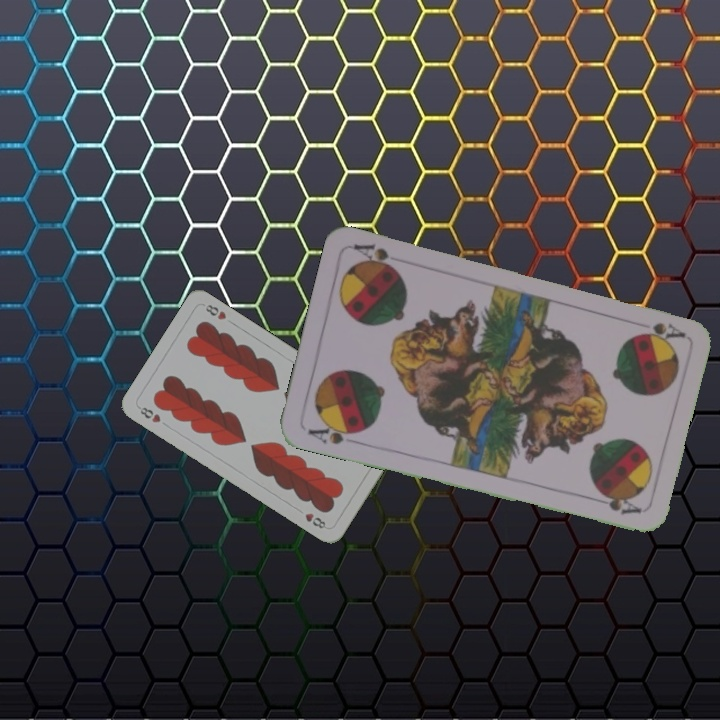H8: (134, 403, 163, 426)
SA: (304, 418, 363, 447), (638, 318, 687, 342)
